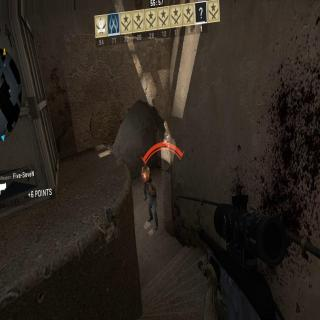T-Body: (146, 178, 158, 221), (142, 161, 152, 198)
T-Head: (148, 176, 152, 184), (143, 162, 147, 169)
